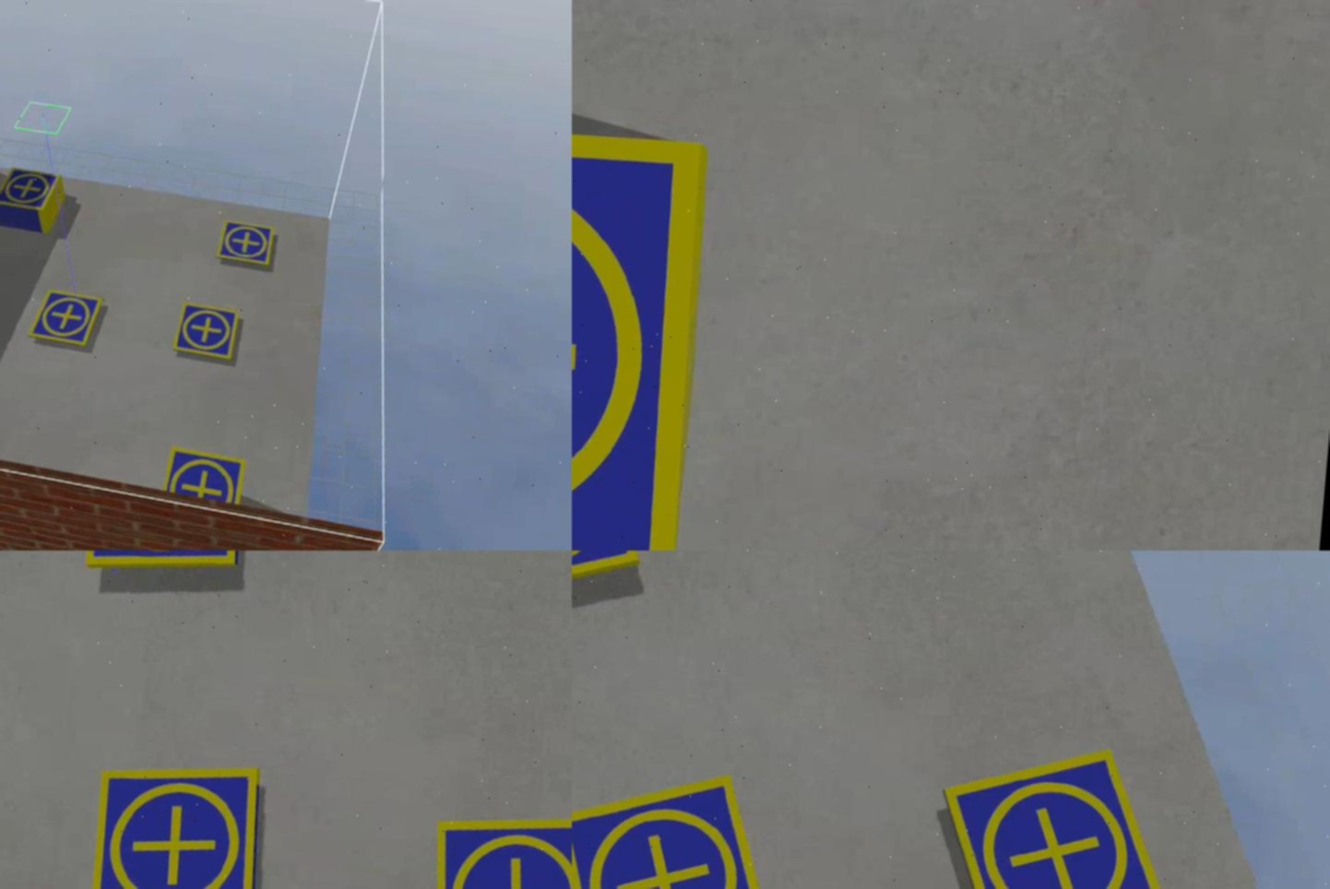small_base: (573, 99, 710, 551), (929, 739, 1187, 889), (573, 762, 787, 889), (83, 754, 269, 889), (422, 805, 573, 889), (84, 551, 253, 583), (164, 447, 247, 505), (30, 290, 103, 350), (174, 304, 241, 362), (216, 219, 279, 267), (1, 167, 62, 212)
